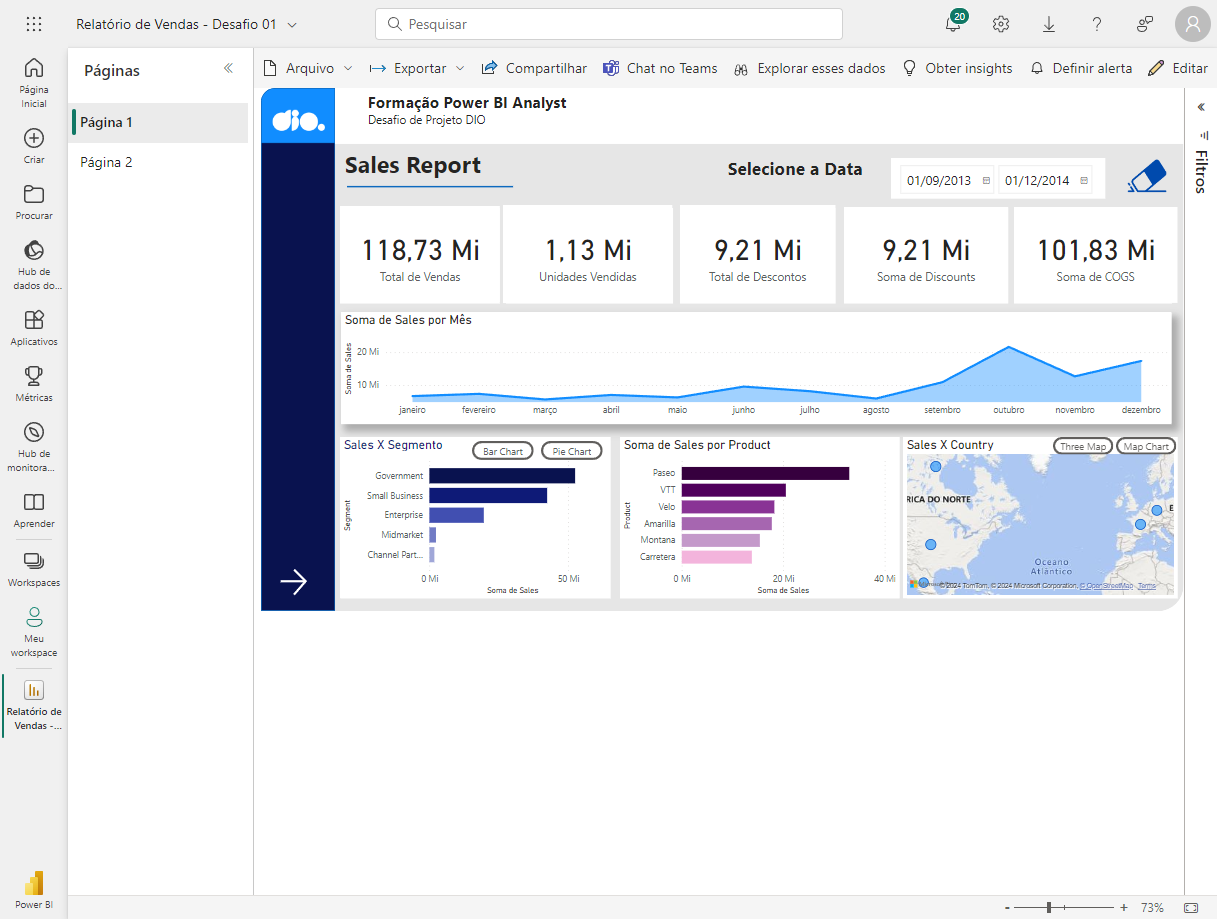

This screenshot's page, from the dashboard's own definition file:
{"tool":"powerbi","page":{"name":"Página 1","canvas":[1280,720],"ordinal":0},"visuals":[{"type":"shape","box":[10.3,0,1269.7,720.2],"z":0},{"type":"image","title":"Clean","box":[1193.6,89.3,69.3,63.2],"z":0,"group":"g2"},{"type":"shape","title":"Divider","box":[128.2,109,228.6,51.3],"z":0,"group":"g5"},{"type":"shape","box":[119.1,165.3,219.9,131.5],"z":0,"group":"g1"},{"type":"clusteredBarChart","title":"Sales X Segmento","fields":{"Y":["Sum(financials. Sales)"],"Category":["financials.Segment"]},"box":[118.5,481.4,372.2,222],"z":0,"group":"g4"},{"type":"shape","box":[10.1,0,102,719.6],"z":1000},{"type":"textbox","title":"Sales Report","box":[120.3,76.5,226.7,65.3],"z":1000,"group":"g5"},{"type":"slicer","fields":{"Values":["financials.Date"]},"box":[876,97,294.8,56],"z":1000,"group":"g2"},{"type":"shape","box":[347,165.1,229.9,131.5],"z":1000,"group":"g1"},{"type":"actionButton","title":"Botão - Chart","box":[394.7,487,84.9,26.1],"z":1250,"group":"g4"},{"type":"actionButton","title":"Botão - Bar","box":[300.4,487,84.9,26.1],"z":1500,"group":"g4"},{"type":"shape","box":[10.1,0,102,76.2],"z":2000},{"type":"textbox","box":[646.5,88.6,229.5,56],"z":2000,"group":"g2"},{"type":"shape","box":[585.9,165.3,213.8,131.5],"z":2000,"group":"g1"},{"type":"map","title":"Sales X Country","fields":{"Category":["financials.Country"],"Size":["Sum(financials. Sales)"]},"box":[892.8,480.5,377.8,222],"z":2000,"group":"g3"},{"type":"image","title":"Logo Dio","box":[20.2,0,81.8,88.5],"z":3000},{"type":"actionButton","box":[1182,95.1,92.4,58.8],"z":3000,"group":"g2"},{"type":"shape","box":[811.8,165.1,225.9,131.5],"z":3000,"group":"g1"},{"type":"actionButton","title":"Botão - Threemap","box":[1099,480.5,83,24.3],"z":3250,"group":"g3"},{"type":"actionButton","title":"Botão - Map","box":[1185.7,480.5,83,24.3],"z":3500,"group":"g3"},{"type":"shape","box":[112.1,0,1167.9,76.2],"z":4000},{"type":"shape","box":[1045.7,165.1,216.8,131.5],"z":4000,"group":"g1"},{"type":"textbox","box":[112,0,1168,76.5],"z":5000},{"type":"card","fields":{"Values":["Sum(financials.Units Sold)"]},"box":[343.4,161.4,233.2,135.3],"z":5000,"group":"g1"},{"type":"group","id":"g1","title":"Cartões","box":[118.5,161.4,1152.2,135.5],"z":6000},{"type":"card","fields":{"Values":["Sum(financials.Discounts)"]},"box":[585.9,161.4,213.6,135.3],"z":6000,"group":"g1"},{"type":"card","fields":{"Values":["Sum(financials.Discounts)"]},"box":[811.7,164.2,225.8,131.5],"z":7000,"group":"g1"},{"type":"textbox","box":[119.5,309.2,1143.5,152.6],"z":7000},{"type":"card","fields":{"Values":["Sum(financials.COGS)"]},"box":[1045.9,164.2,224.8,131.5],"z":8000,"group":"g1"},{"type":"textbox","box":[119.5,480.9,371.5,221.9],"z":8000},{"type":"card","fields":{"Values":["Sum(financials. Sales)"]},"box":[118.5,162.5,220.2,132.5],"z":9000,"group":"g1"},{"type":"textbox","box":[504,480.9,384.5,221.9],"z":9000},{"type":"textbox","box":[898.5,480.9,372.5,221.9],"z":10000},{"type":"stackedAreaChart","fields":{"Category":["financials.Date.Variation.Hierarquia de datas.Mês"],"Y":["Sum(financials. Sales)"]},"box":[119.4,308.8,1142.9,153],"z":11000},{"type":"clusteredBarChart","fields":{"Y":["Sum(financials. Sales)"],"Category":["financials.Product"]},"box":[503.8,480.5,384.4,222],"z":12000},{"type":"group","id":"g2","title":"Filtro por data","box":[646.5,88.6,627.9,65.3],"z":13000},{"type":"group","id":"g3","title":"Sales X País","box":[892.8,480.5,380.9,222.2],"z":14000},{"type":"group","id":"g4","title":"Sales X Segmento","box":[118.5,479.5,372.2,223.9],"z":15000},{"type":"group","id":"g5","title":"Title Report","box":[120.3,76.5,236.4,83.8],"z":16000},{"type":"actionButton","title":"Botão","box":[30.7,655.9,60.3,47.2],"z":17500}]}

Visuals, with their boxes on the page's 1280x720 design canvas (x1, y1, x2, y2). These are canvas units, not pixel positions in the 1217x919 screenshot, which may show the page scaled, cropped or inside an application window:
shape: rect(10, 0, 1280, 720)
"Clean" image: rect(1194, 89, 1263, 152)
"Divider" shape: rect(128, 109, 357, 160)
shape: rect(119, 165, 339, 297)
"Sales X Segmento" clusteredBarChart: rect(118, 481, 491, 703)
shape: rect(10, 0, 112, 720)
"Sales Report" textbox: rect(120, 76, 347, 142)
slicer - financials.Date: rect(876, 97, 1171, 153)
shape: rect(347, 165, 577, 297)
"Botão - Chart" actionButton: rect(395, 487, 480, 513)
"Botão - Bar" actionButton: rect(300, 487, 385, 513)
shape: rect(10, 0, 112, 76)
textbox: rect(646, 89, 876, 145)
shape: rect(586, 165, 800, 297)
"Sales X Country" map: rect(893, 480, 1271, 702)
"Logo Dio" image: rect(20, 0, 102, 88)
actionButton: rect(1182, 95, 1274, 154)
shape: rect(812, 165, 1038, 297)
"Botão - Threemap" actionButton: rect(1099, 480, 1182, 505)
"Botão - Map" actionButton: rect(1186, 480, 1269, 505)
shape: rect(112, 0, 1280, 76)
shape: rect(1046, 165, 1262, 297)
textbox: rect(112, 0, 1280, 76)
card - Sum(financials.Units Sold): rect(343, 161, 577, 297)
"Cartões" group: rect(118, 161, 1271, 297)
card - Sum(financials.Discounts): rect(586, 161, 800, 297)
card - Sum(financials.Discounts): rect(812, 164, 1038, 296)
textbox: rect(120, 309, 1263, 462)
card - Sum(financials.COGS): rect(1046, 164, 1271, 296)
textbox: rect(120, 481, 491, 703)
card - Sum(financials. Sales): rect(118, 162, 339, 295)
textbox: rect(504, 481, 888, 703)
textbox: rect(898, 481, 1271, 703)
stackedAreaChart - financials.Date.Variation.Hierarquia de datas.Mês x Sum(financials. Sales): rect(119, 309, 1262, 462)
clusteredBarChart - Sum(financials. Sales) x financials.Product: rect(504, 480, 888, 702)
"Filtro por data" group: rect(646, 89, 1274, 154)
"Sales X País" group: rect(893, 480, 1274, 703)
"Sales X Segmento" group: rect(118, 480, 491, 703)
"Title Report" group: rect(120, 76, 357, 160)
"Botão" actionButton: rect(31, 656, 91, 703)
